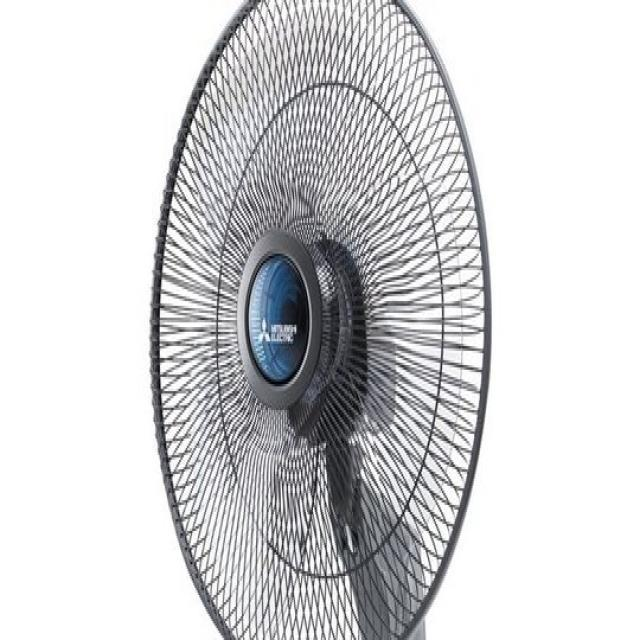fan: (146, 0, 494, 640)
